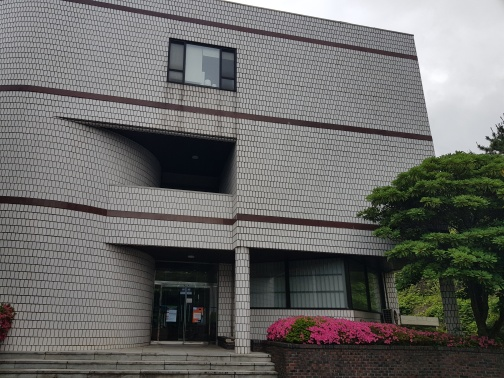Foreign Language Institute: (4, 4, 498, 371), (113, 214, 338, 378)
